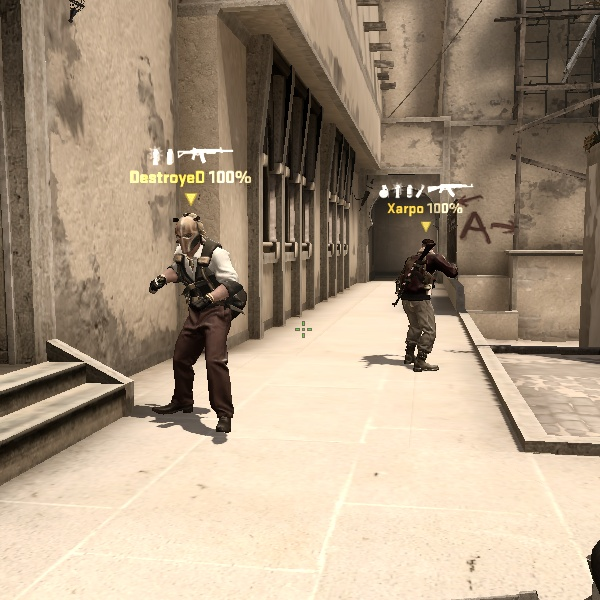t_body: (134, 211, 260, 429), (393, 237, 470, 374)
t_head: (164, 209, 218, 264), (415, 235, 441, 263)
